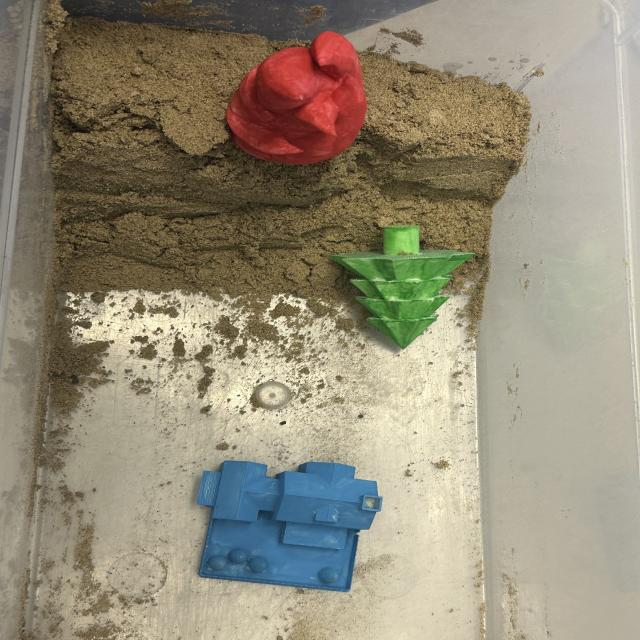fire: (224, 29, 368, 166)
house: (194, 458, 384, 593)
tree: (327, 224, 476, 351)
